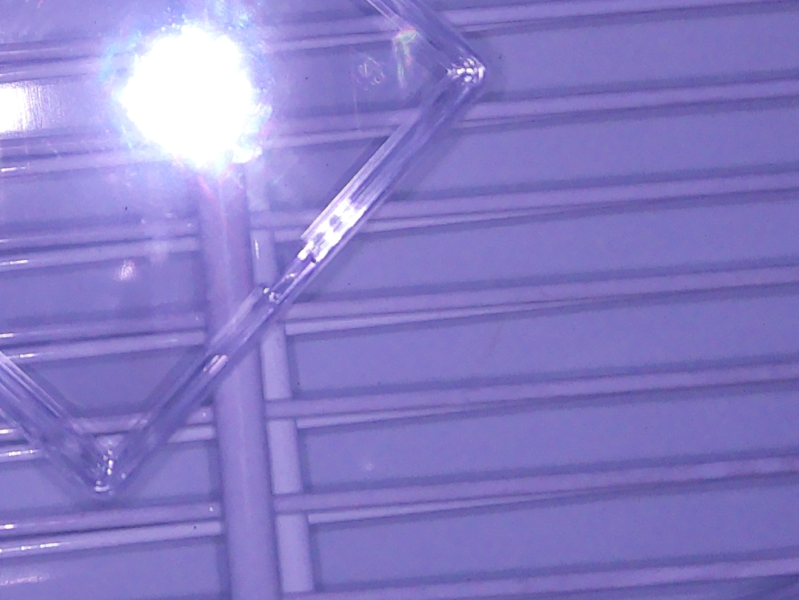plate: (1, 1, 493, 506)
